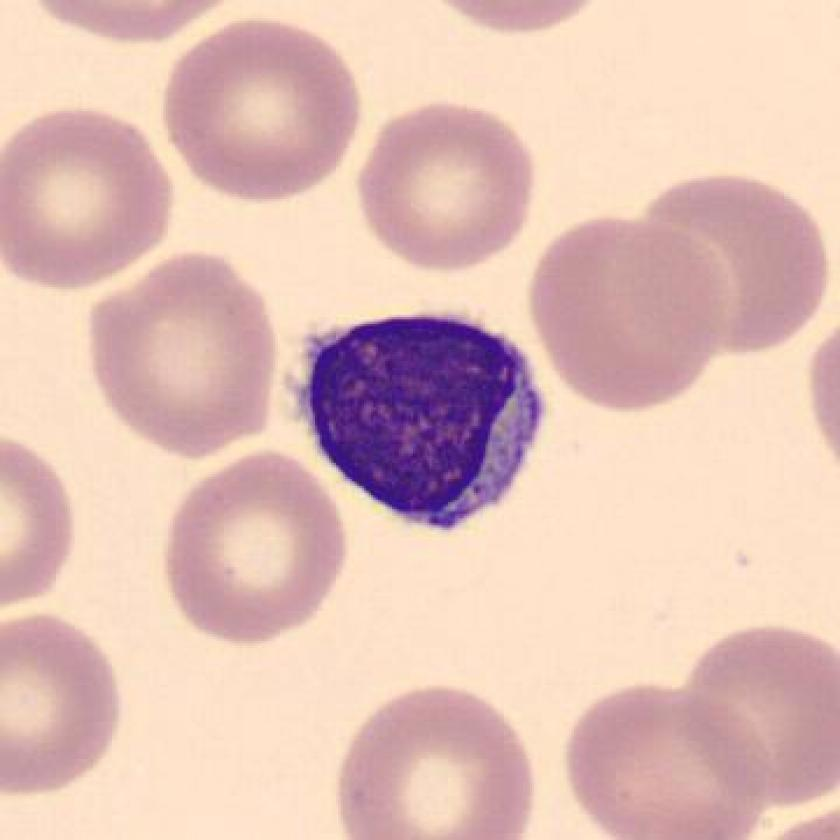lymphocyte: (283, 290, 575, 545)
